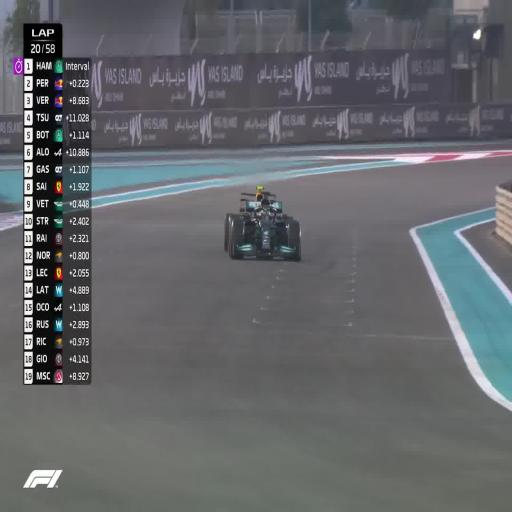f1_car: (224, 186, 301, 261)
